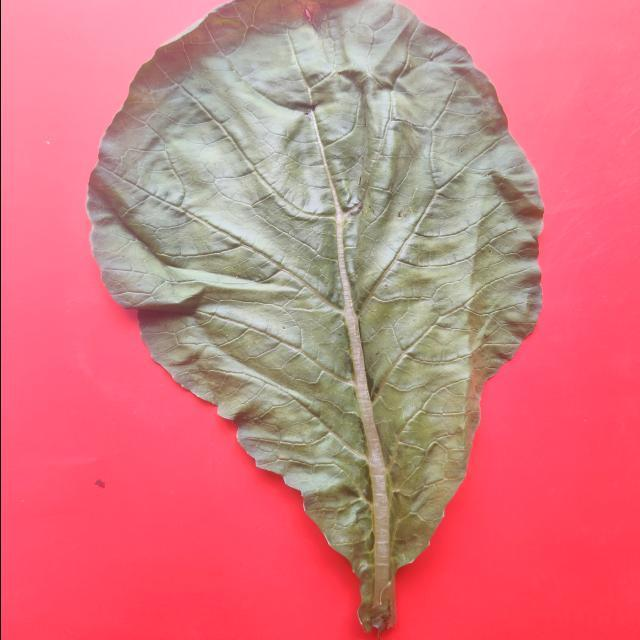leaf: (85, 0, 545, 634)
